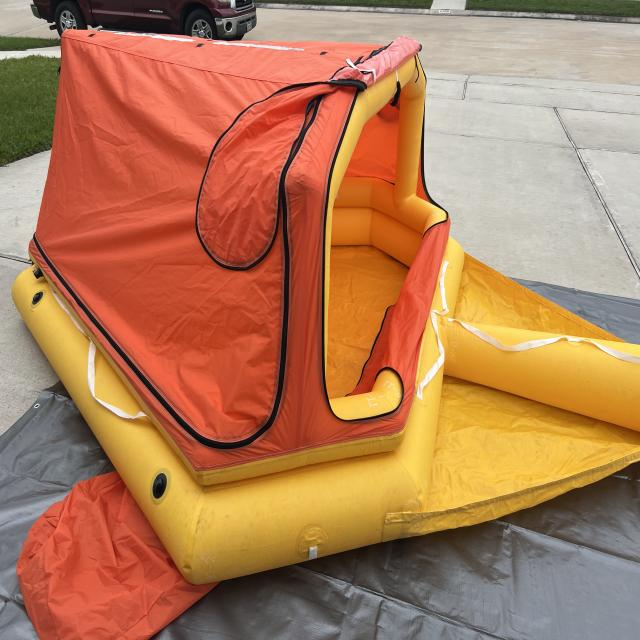Multi-person_life_raft: (11, 28, 640, 639)
